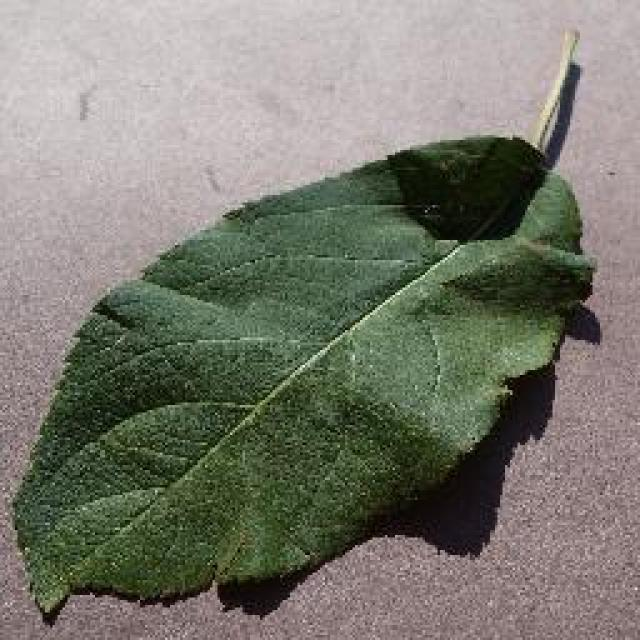apple healthy: (8, 25, 598, 623)
